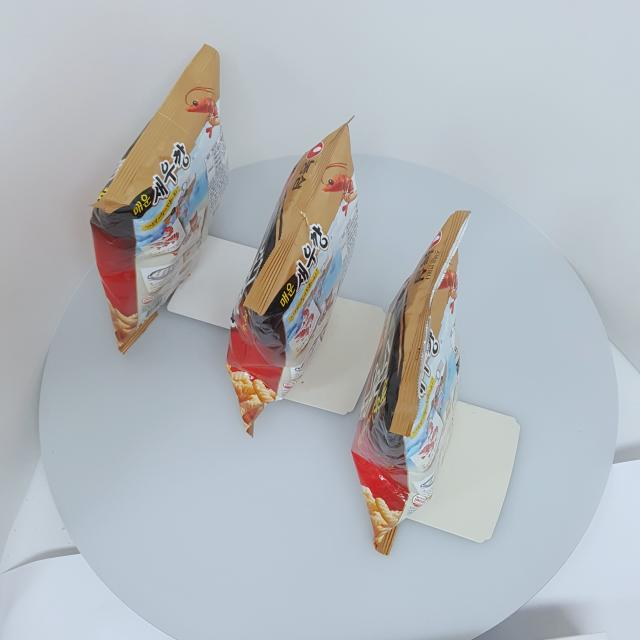-90G: (89, 45, 231, 356), (226, 115, 360, 439), (352, 210, 474, 557)
